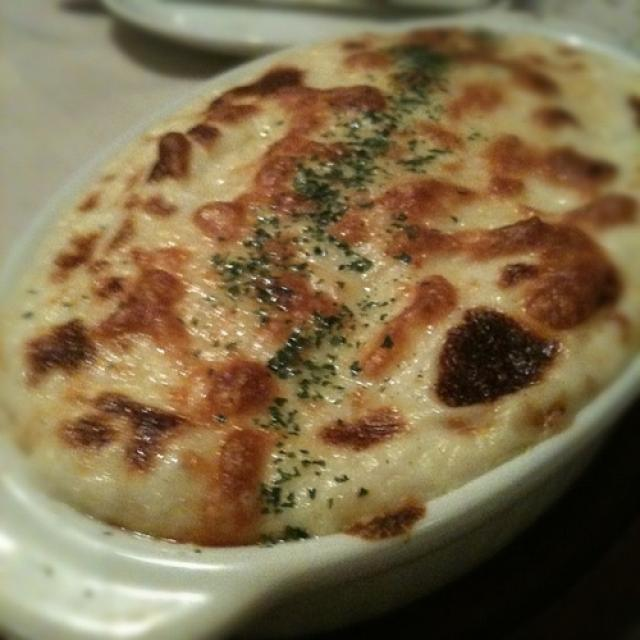米饭主食: (11, 13, 635, 604)
